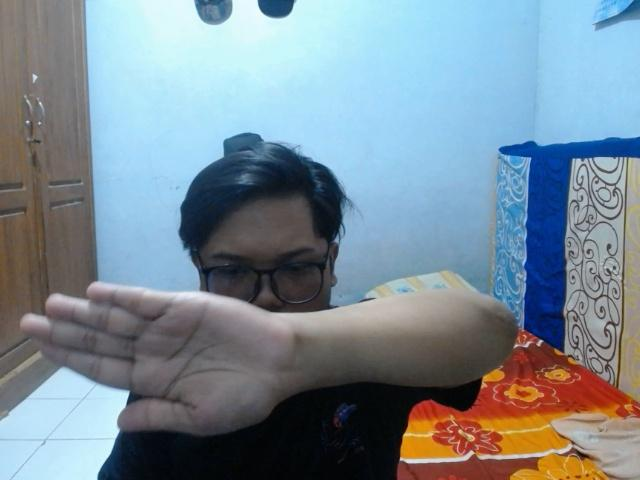Release: (19, 277, 290, 444)
